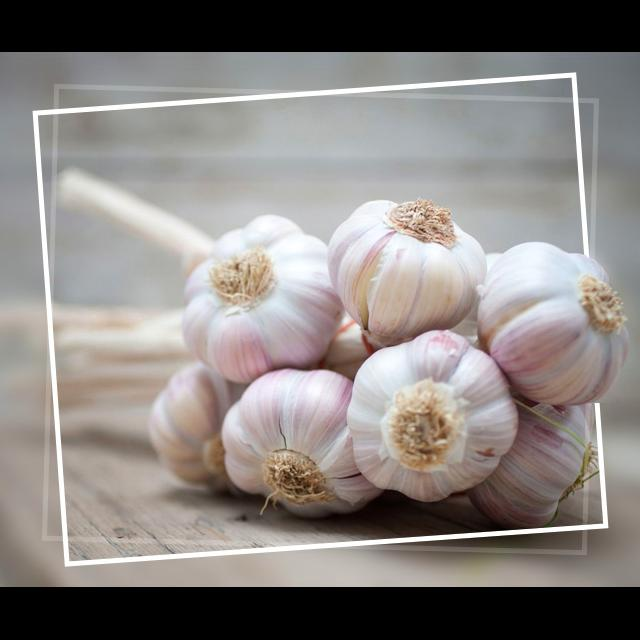garlic: (348, 333, 514, 496), (178, 214, 337, 371), (505, 239, 633, 408), (327, 195, 486, 327), (222, 367, 347, 519)
